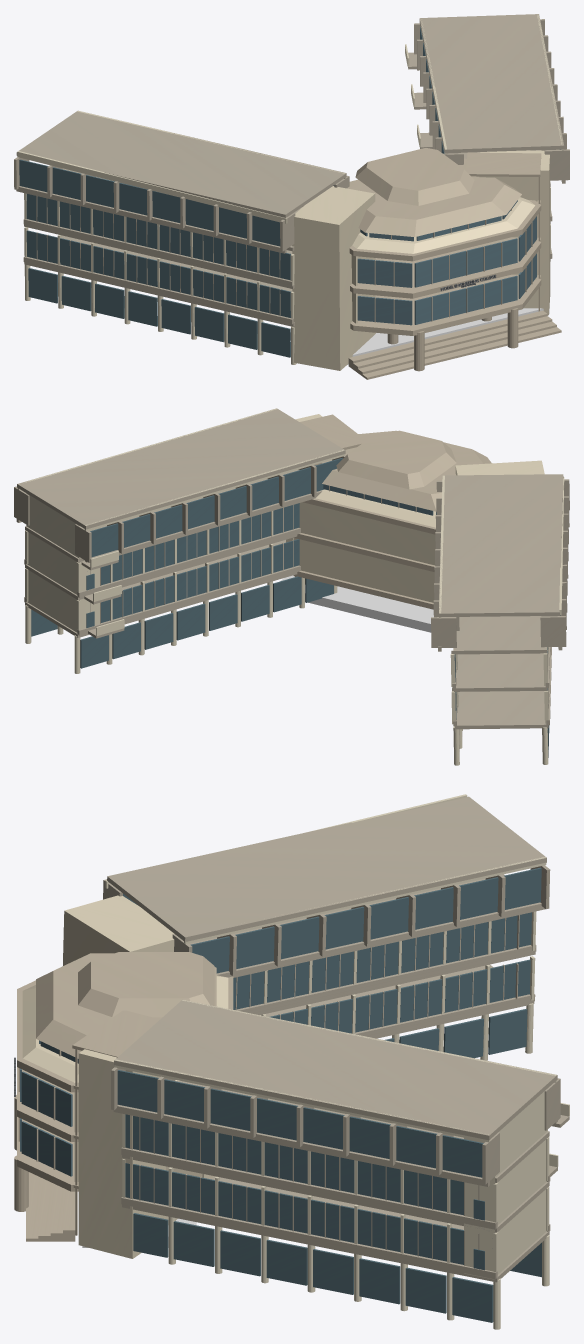
Rendered from collegemodel.glb.
3 views of the same model, one above another, from view 1: azimuth 30°, elevation 25°; view 2: azimuth 150°, elevation 25°; view 3: azimuth 270°, elevation 25° (orthographic). The views are drawn at different scales.
Parts seen in each view (by area): view 1: Right Wing Concrete Floor Slab.003, Left Wing Concrete Floor Slab.003, Left Stair Elevator Tower, Roof Upper Sloped Clerestory Cap, Roof Upper Sloped Clerestory Cap.001, Right Stair Elevator Tower, Projecting Faceted Floor Band 01, Projecting Faceted Floor Band 02, Roof Lower Sloped Fascia, Ribbon Glass Face 00, Ribbon Glass Face 00.001, Left Wing Cream Floor Spandrel.001 (+51 smaller); view 2: Right Wing Concrete Floor Slab.003, Left Wing Concrete Floor Slab.003, Right Wing Far End Stairwell Block, Roof Upper Sloped Clerestory Cap.001, Core Wall Face 04.001, Core Wall Face 04, Left Wing Concrete Floor Slab, Left Wing Concrete Floor Slab.001, Left Wing Concrete Floor Slab.002, Roof Upper Sloped Clerestory Cap, Cube.001, Right Wing Cream Floor Spandrel.003 (+44 smaller); view 3: Left Wing Concrete Floor Slab.003, Right Wing Concrete Floor Slab.003, Right Stair Elevator Tower, Right Wing Far End Stairwell Block, Roof Upper Sloped Clerestory Cap.001, Left Stair Elevator Tower, Roof Upper Sloped Clerestory Cap, Right Wing Cream Floor Spandrel, Right Wing Cream Floor Spandrel.002, Right Wing Top Storey Cantilever Spandrel, Right Wing Concrete Floor Slab, Left Wing Top Storey Cantilever Spandrel (+75 smaller).
Boxes of the visible parts, x1=… form: Right Wing Concrete Floor Slab.003: x1=419, y1=14, x2=564, y2=153; Left Wing Concrete Floor Slab.003: x1=16, y1=111, x2=346, y2=217; Left Stair Elevator Tower: x1=292, y1=186, x2=375, y2=370; Roof Upper Sloped Clerestory Cap: x1=347, y1=158, x2=521, y2=236; Roof Upper Sloped Clerestory Cap.001: x1=355, y1=148, x2=474, y2=205; Right Stair Elevator Tower: x1=479, y1=150, x2=550, y2=315; Projecting Faceted Floor Band 01: x1=350, y1=274, x2=541, y2=335; Projecting Faceted Floor Band 02: x1=350, y1=237, x2=541, y2=298; Roof Lower Sloped Fascia: x1=352, y1=197, x2=535, y2=253; Ribbon Glass Face 00: x1=414, y1=275, x2=517, y2=324; Ribbon Glass Face 00.001: x1=414, y1=238, x2=517, y2=287; Left Wing Cream Floor Spandrel.001: x1=23, y1=257, x2=293, y2=324; Right Wing Concrete Floor Slab.003: x1=17, y1=408, x2=345, y2=529; Left Wing Concrete Floor Slab.003: x1=439, y1=474, x2=563, y2=617; Right Wing Far End Stairwell Block: x1=26, y1=493, x2=100, y2=632; Roof Upper Sloped Clerestory Cap.001: x1=336, y1=430, x2=456, y2=489; Core Wall Face 04.001: x1=299, y1=502, x2=435, y2=565; Core Wall Face 04: x1=294, y1=538, x2=434, y2=602; Left Wing Concrete Floor Slab: x1=454, y1=691, x2=548, y2=729; Left Wing Concrete Floor Slab.001: x1=454, y1=653, x2=547, y2=691; Left Wing Concrete Floor Slab.002: x1=453, y1=616, x2=546, y2=654; Roof Upper Sloped Clerestory Cap: x1=314, y1=430, x2=491, y2=511; Cube.001: x1=280, y1=575, x2=433, y2=632; Right Wing Cream Floor Spandrel.003: x1=77, y1=528, x2=300, y2=597; Left Wing Concrete Floor Slab.003: x1=107, y1=796, x2=546, y2=941; Right Wing Concrete Floor Slab.003: x1=114, y1=999, x2=557, y2=1140; Right Stair Elevator Tower: x1=78, y1=1049, x2=177, y2=1258; Right Wing Far End Stairwell Block: x1=464, y1=1091, x2=547, y2=1279; Roof Upper Sloped Clerestory Cap.001: x1=78, y1=952, x2=214, y2=1017; Left Stair Elevator Tower: x1=63, y1=895, x2=174, y2=965; Roof Upper Sloped Clerestory Cap: x1=36, y1=953, x2=216, y2=1058; Right Wing Cream Floor Spandrel: x1=121, y1=1197, x2=497, y2=1279; Right Wing Cream Floor Spandrel.002: x1=121, y1=1147, x2=497, y2=1229; Right Wing Top Storey Cantilever Spandrel: x1=113, y1=1105, x2=489, y2=1186; Right Wing Concrete Floor Slab: x1=122, y1=1176, x2=549, y2=1282; Left Wing Top Storey Cantilever Spandrel: x1=216, y1=902, x2=545, y2=977.
Size of the model in its own units: 48.28 by 13.56 by 32.47.
Materials: 7 (6 with a texture image).
